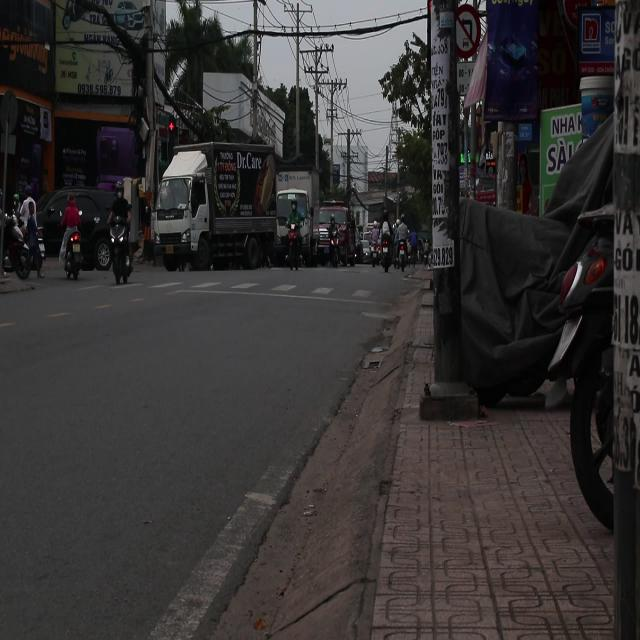car: (40, 188, 128, 276)
motorbike: (102, 208, 140, 292), (5, 222, 42, 280), (59, 224, 86, 280), (382, 237, 392, 272)
truck: (153, 143, 282, 271), (303, 204, 351, 265)
